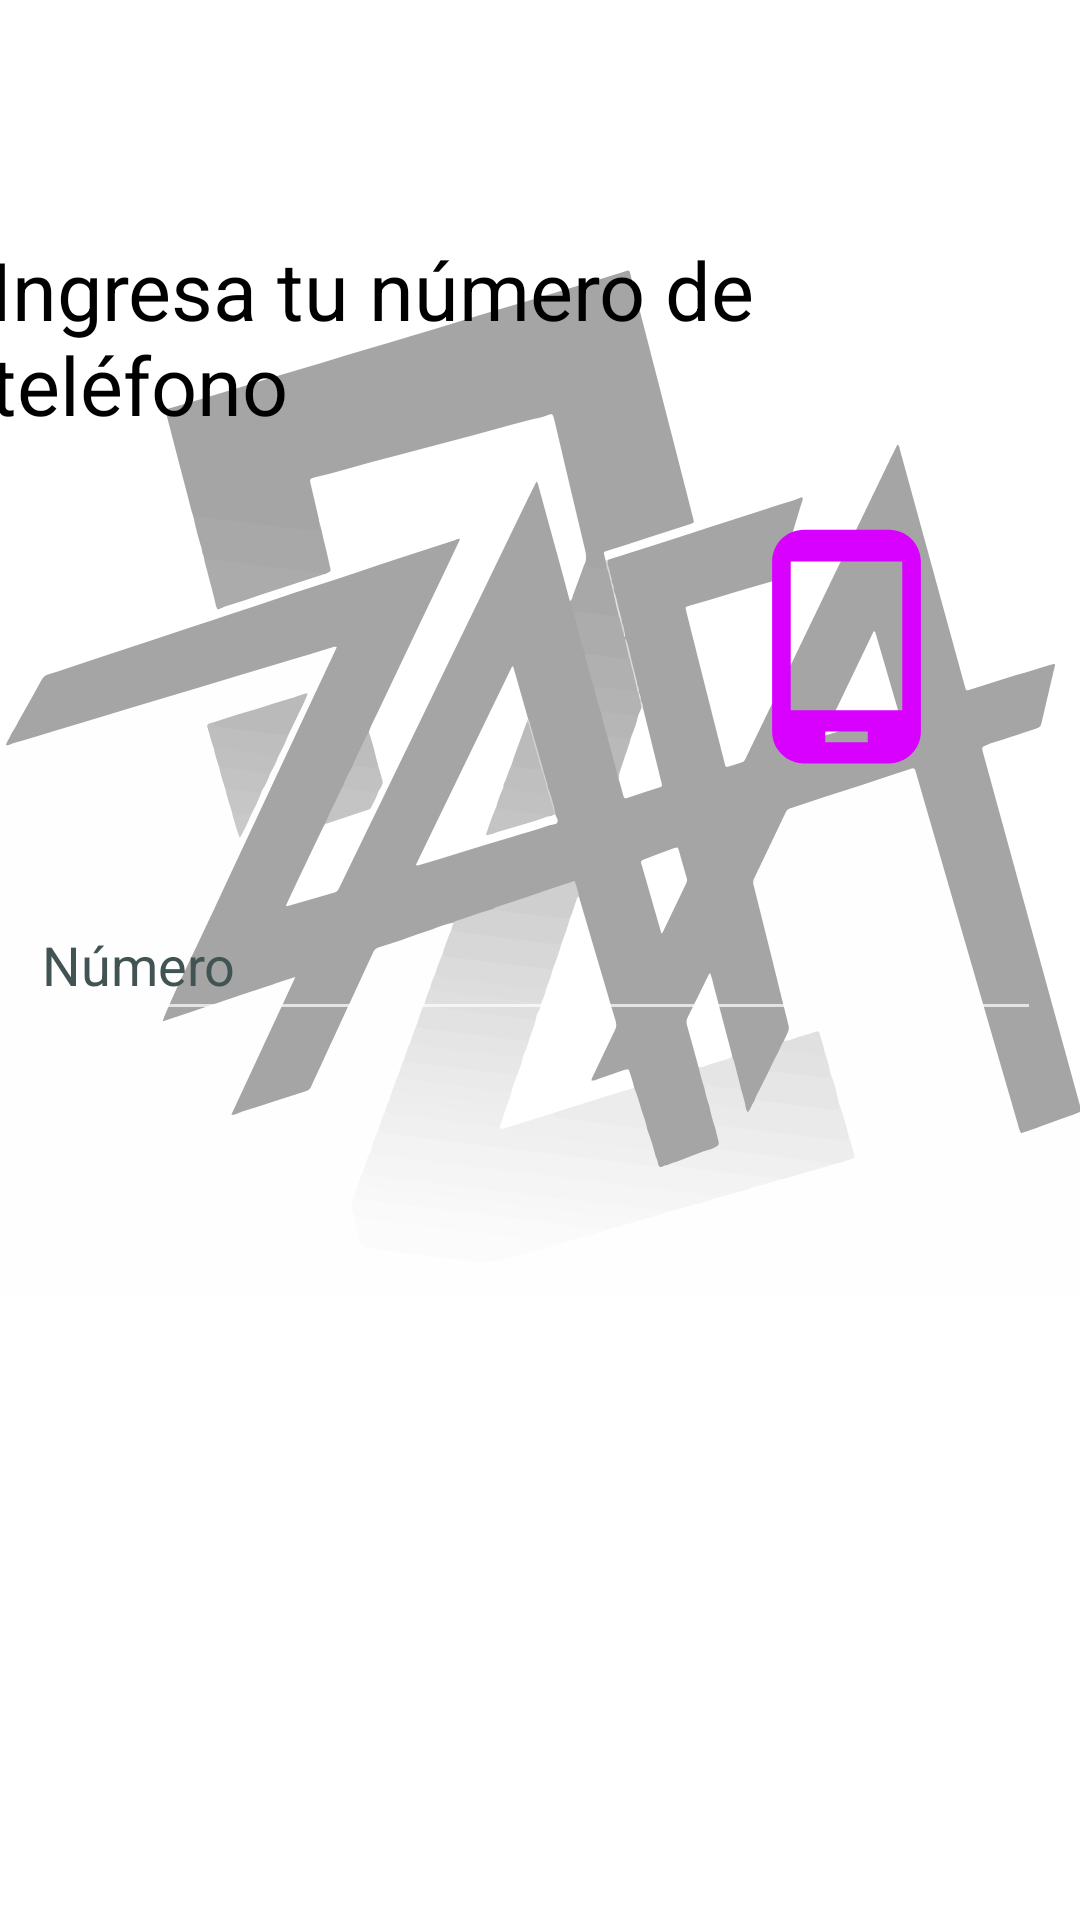

Screen size 1080px×1920px. Icon name, then its center in pixels as [x,y]:
phone android: [846,646]
